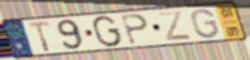9: (57, 18, 85, 51)
G: (91, 14, 124, 49), (190, 8, 221, 40)
P: (120, 13, 151, 46)
T: (26, 20, 52, 53)
Z: (156, 10, 194, 42)
